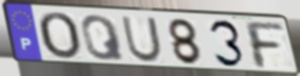3: (205, 18, 245, 69)
8: (166, 16, 204, 67)
F: (241, 20, 287, 71)
O: (36, 11, 83, 62)
Q: (79, 13, 128, 62)
U: (119, 16, 164, 65)
